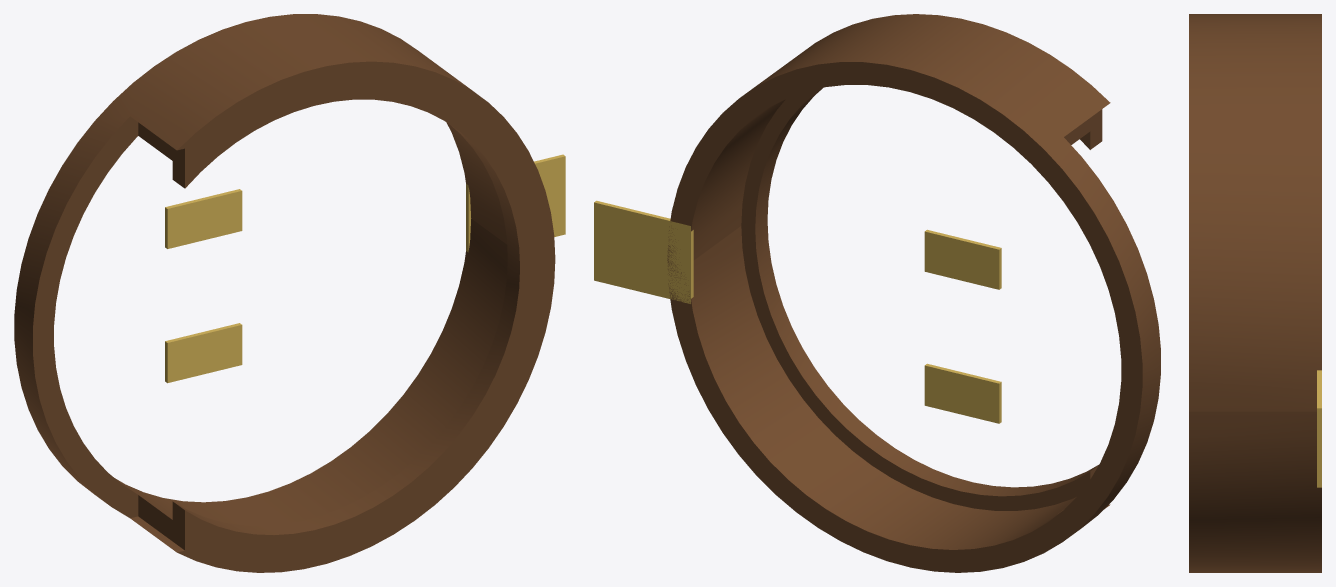
File: .bs08_holder.step.glb
The picture shows the model from 3 angles, left to right: view 1: azimuth 30°, elevation 25°; view 2: azimuth 150°, elevation 25°; view 3: azimuth 270°, elevation 25°; orthographic projection.
Visible parts, largest first — view 1: o1.1, o1.3, o1.4, o1.2; view 2: o1.1, o1.2, o1.3, o1.4; view 3: o1.1, o1.2.
Part boxes in pixels (bbox=[...]): o1.1: bbox=[14, 14, 555, 572]; o1.3: bbox=[165, 323, 242, 383]; o1.4: bbox=[165, 189, 242, 248]; o1.2: bbox=[466, 154, 565, 252]; o1.1: bbox=[667, 14, 1160, 572]; o1.2: bbox=[594, 200, 693, 303]; o1.3: bbox=[924, 363, 1001, 423]; o1.4: bbox=[924, 229, 1001, 289]; o1.1: bbox=[1189, 14, 1321, 572]; o1.2: bbox=[1317, 370, 1321, 487].
Size of the model in its own units: 0.0257 by 0.0223 by 0.0053.
